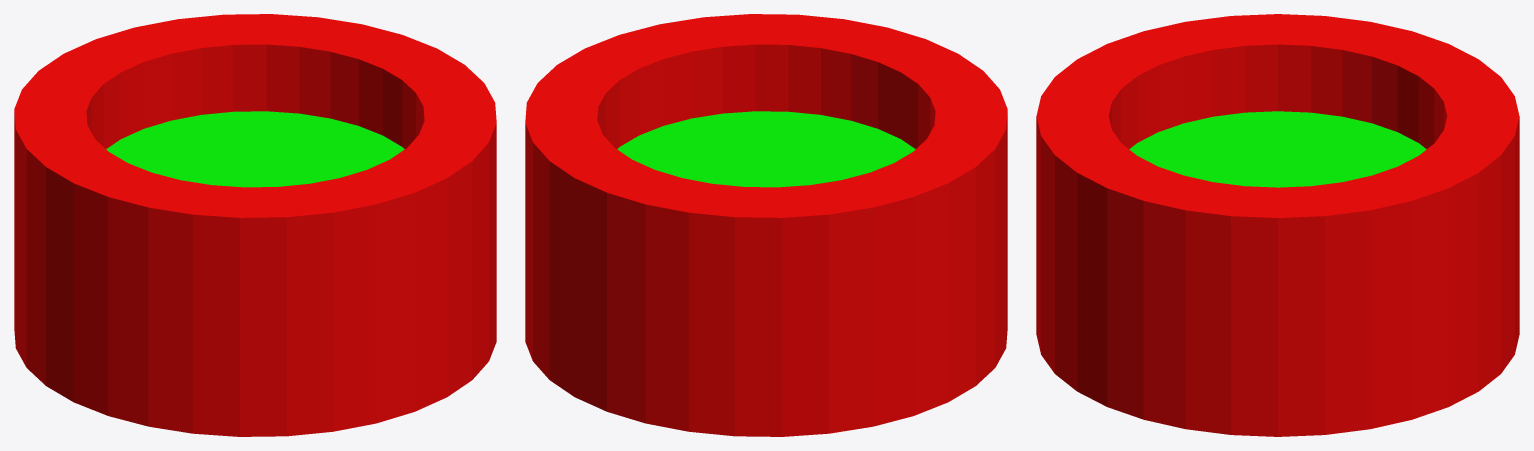
The model's file is SM_Kart_Wheel_1.fbx.
3 views of the same model, side by side, from view 1: azimuth 30°, elevation 25°; view 2: azimuth 150°, elevation 25°; view 3: azimuth 270°, elevation 25° (orthographic).
Visible parts, largest first — view 1: SM_Kart_Wheels_1; view 2: SM_Kart_Wheels_1; view 3: SM_Kart_Wheels_1.
Boxes of the visible parts, left/top/right/bottom form: SM_Kart_Wheels_1: left=14, top=14, right=496, bottom=436; SM_Kart_Wheels_1: left=525, top=14, right=1007, bottom=436; SM_Kart_Wheels_1: left=1036, top=14, right=1519, bottom=436.
Bounding box in the file's own units: 131 × 65.6 × 131.
